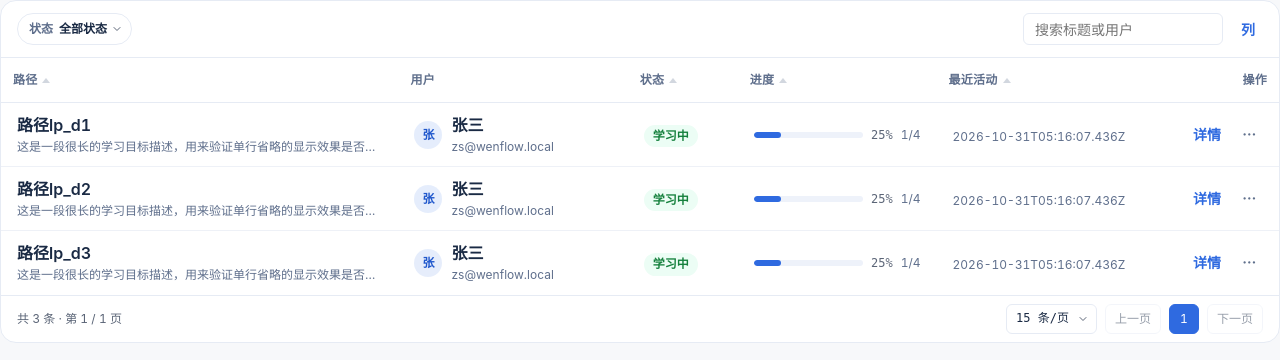
Test: OpsContent 学习路径 tab 重设计骨架 › 拆列：难度/时长独立成列；难度枚举归一（unknown→未知，不直出英文）
Expected: the text "难度" is not shown
Expected: the text "预计时长" is not shown
# 难度 / 时长默认收起：从「列」菜单打开后再验证
Click the button with class "mk-cols__trigger" at coordinates (1248, 29), box [1233, 13, 1263, 45]
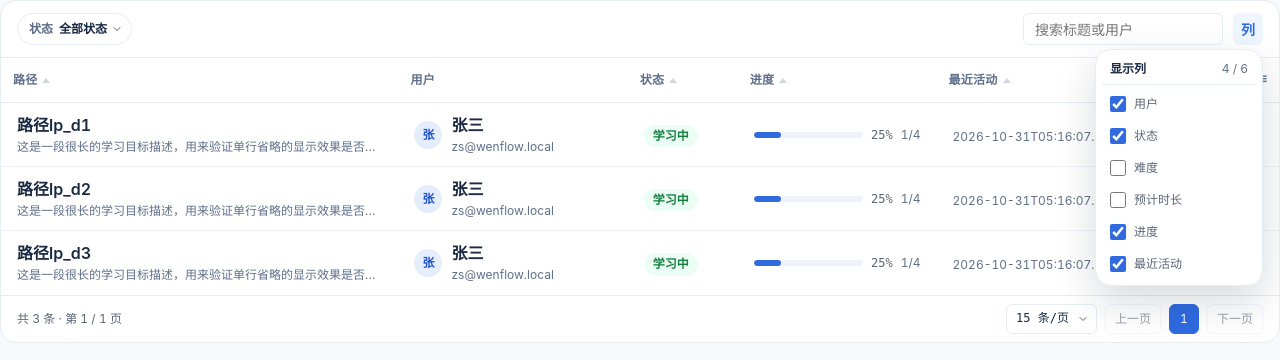
Click the checkbox labelled "难度" at coordinates (1118, 168), box [1110, 160, 1126, 176]
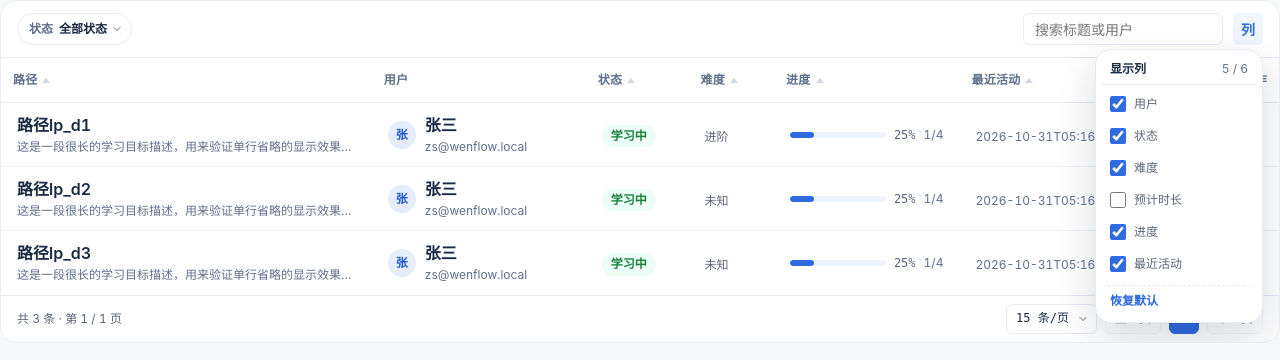
Click the checkbox labelled "预计时长" at coordinates (1118, 200), box [1110, 192, 1126, 208]
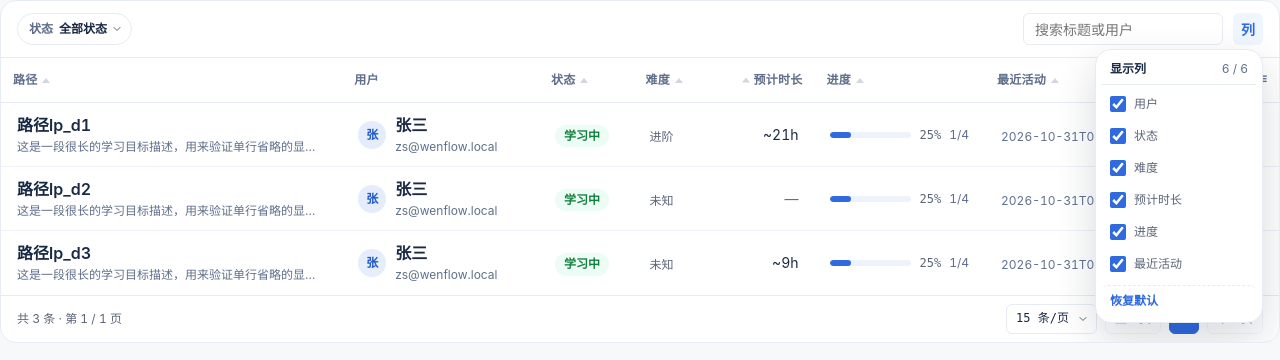
Result: the elements with class "oc-diff" read "进阶", "未知", "未知", in this order at [649, 128, 673, 144]; [649, 192, 673, 208]; [649, 257, 673, 272]
Result: the elements with class "mk-num" read "~21h", "—", "~9h", in this order at [712, 102, 814, 166]; [712, 166, 814, 230]; [712, 230, 814, 294]
